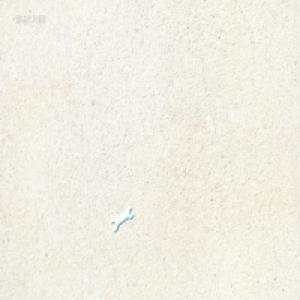Wrench: (112, 205, 134, 230)
